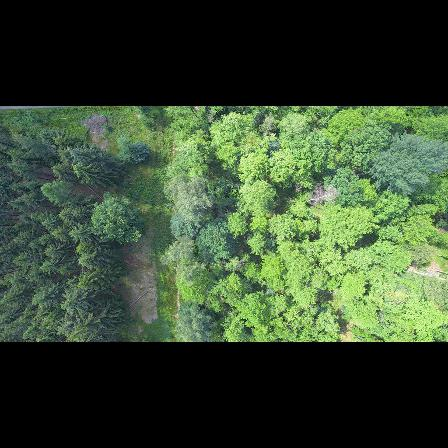Dead: (306, 182, 343, 206)
